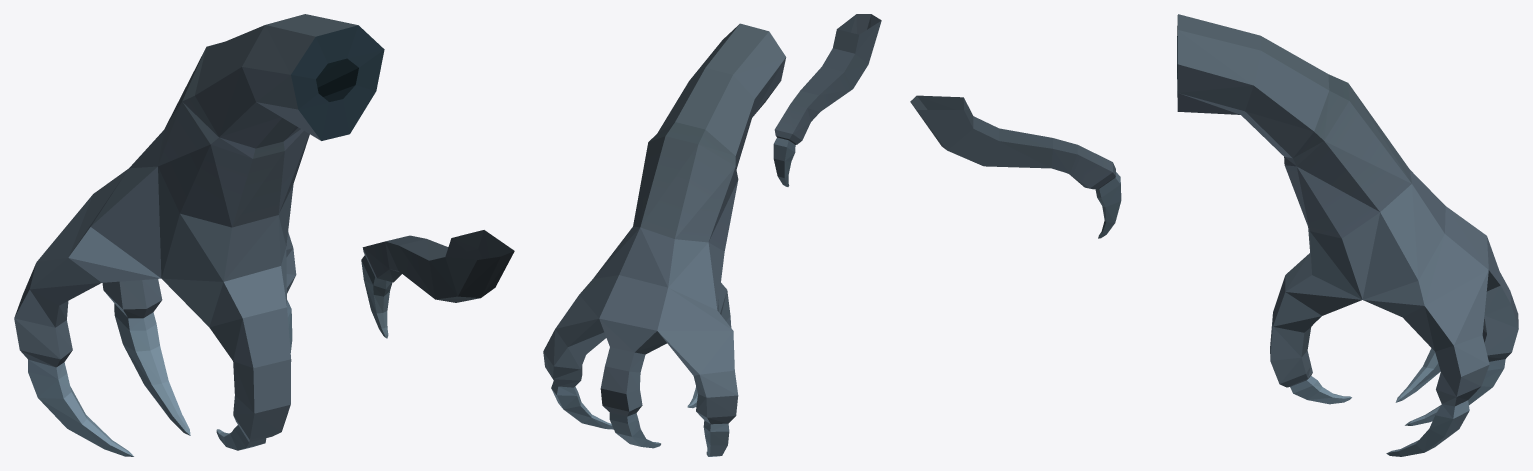
Rendered from smallCrossbowDragonHandle.glb.
3 views of the same model, side by side, from view 1: azimuth 30°, elevation 25°; view 2: azimuth 150°, elevation 25°; view 3: azimuth 270°, elevation 25° (orthographic). The views are drawn at different scales.
Visible parts, largest first — view 1: smallCrossbowDragonHandle; view 2: smallCrossbowDragonHandle; view 3: smallCrossbowDragonHandle.
Boxes of the visible parts, x1,y1,x2,y2 form: smallCrossbowDragonHandle: [14, 14, 514, 456]; smallCrossbowDragonHandle: [543, 14, 881, 456]; smallCrossbowDragonHandle: [910, 14, 1518, 456].
Bounding box in the file's own units: 0.1653 × 0.2848 × 0.3853.
